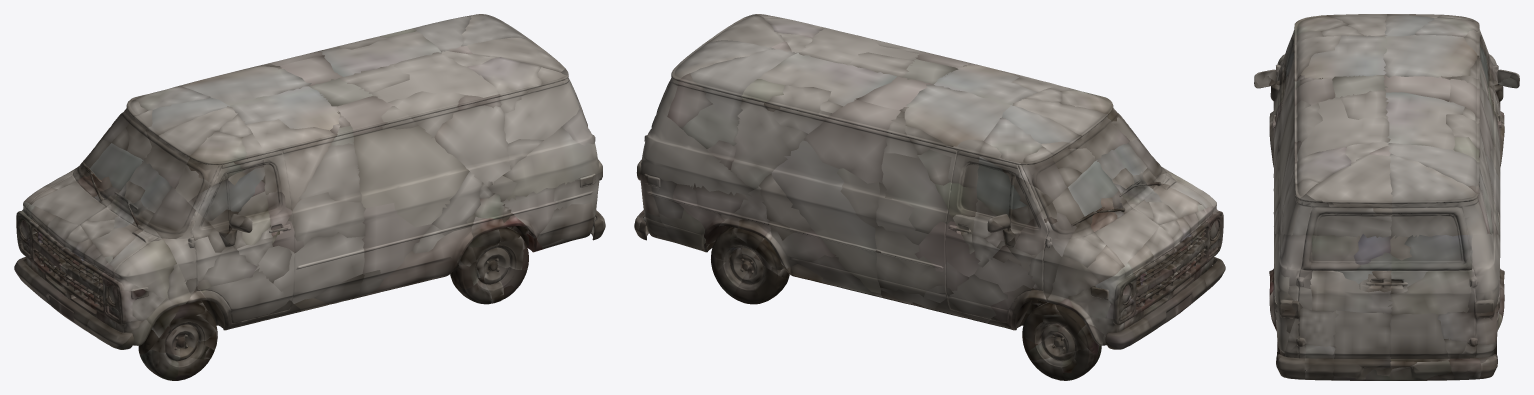
File: car_van_light_q1.glb
3 renders of one model, left to right at view 1: azimuth 30°, elevation 25°; view 2: azimuth 150°, elevation 25°; view 3: azimuth 270°, elevation 25°, orthographic. The views are drawn at different scales.
Size of the model in its own units: 0.0488 by 0.02 by 0.0217.
Materials: 1 (1 with a texture image).
